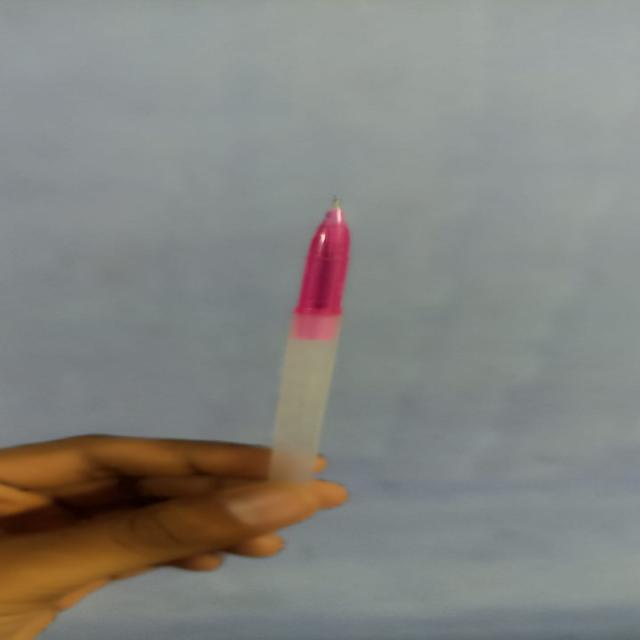pen: (253, 196, 369, 505)
